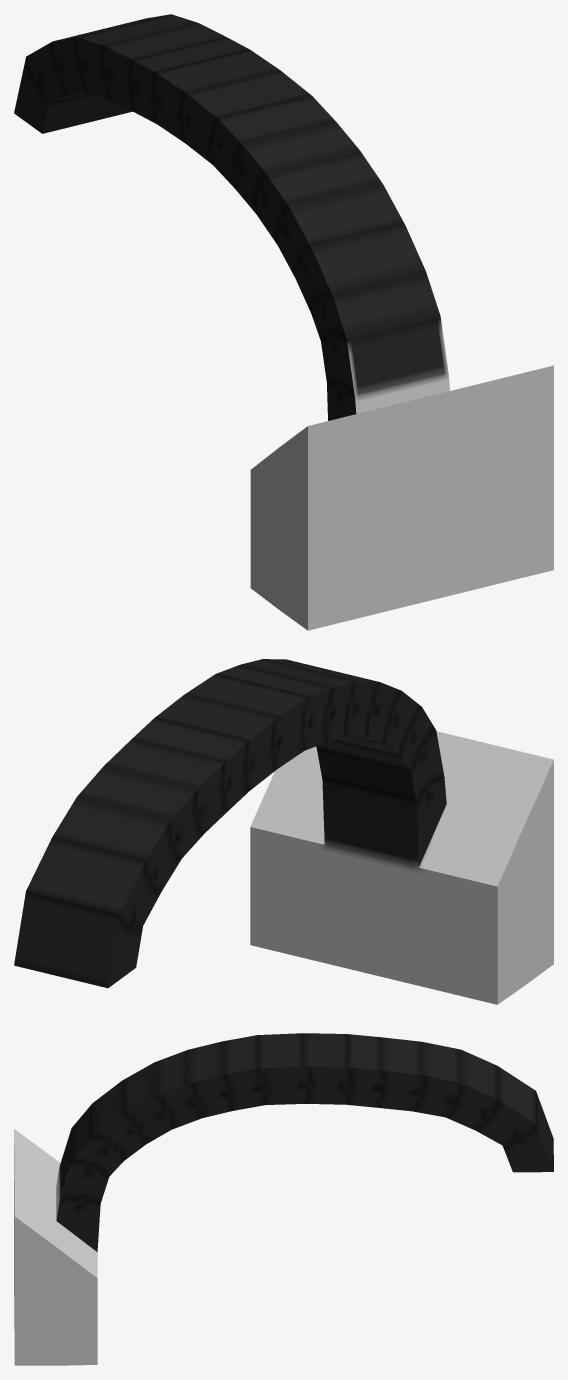
Rendered from PowerCord.fbx.
The picture shows the model from 3 angles, top to bottom: view 1: azimuth 30°, elevation 25°; view 2: azimuth 150°, elevation 25°; view 3: azimuth 270°, elevation 25°; orthographic projection. The views are drawn at different scales.
Parts seen in each view (by area): view 1: PowerBelt.001, PowerBelt; view 2: PowerBelt.001, PowerBelt; view 3: PowerBelt.001, PowerBelt.
Boxes of the visible parts, x1,y1,x2,y2 form: PowerBelt.001: (14,14,449,420); PowerBelt: (250,365,553,630); PowerBelt.001: (14,659,446,988); PowerBelt: (250,731,553,1004); PowerBelt.001: (56,1033,553,1251); PowerBelt: (14,1129,97,1365).
Bounding box in the file's own units: 29.86 × 43.11 × 77.47.
